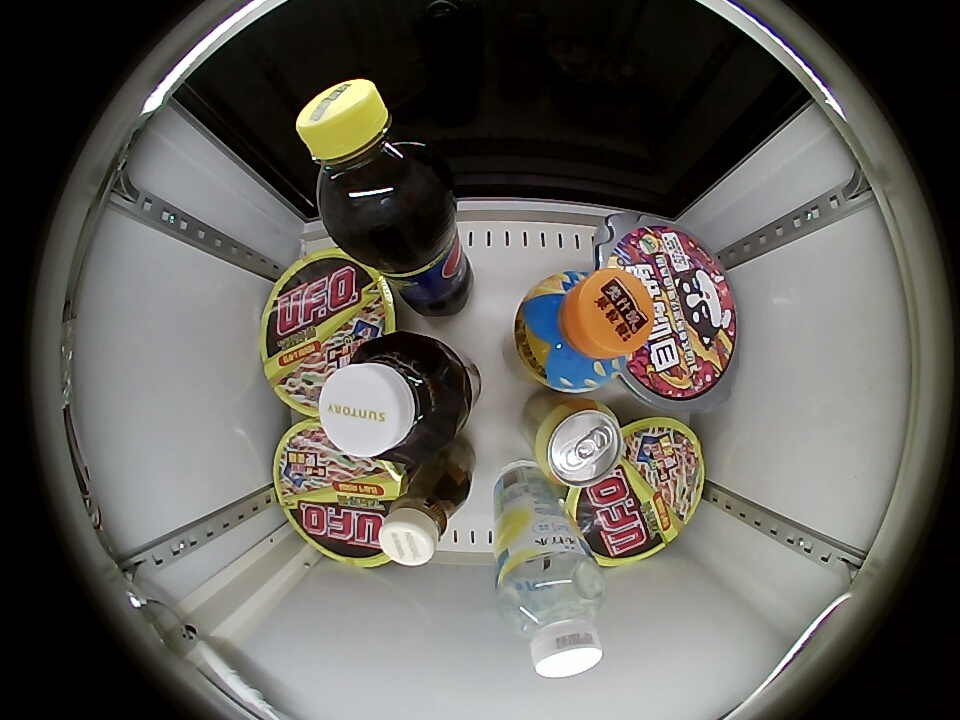baishikele: (297, 79, 439, 231)
guolicheng: (518, 268, 654, 393)
kafei: (378, 463, 468, 568)
mangguoxiaolao: (532, 397, 624, 486)
qinningshui: (496, 552, 606, 680)
ufo: (262, 246, 396, 418), (566, 415, 705, 566), (273, 419, 405, 567)
wulongcha: (321, 334, 462, 458)
zihaiguo: (606, 228, 735, 401)
